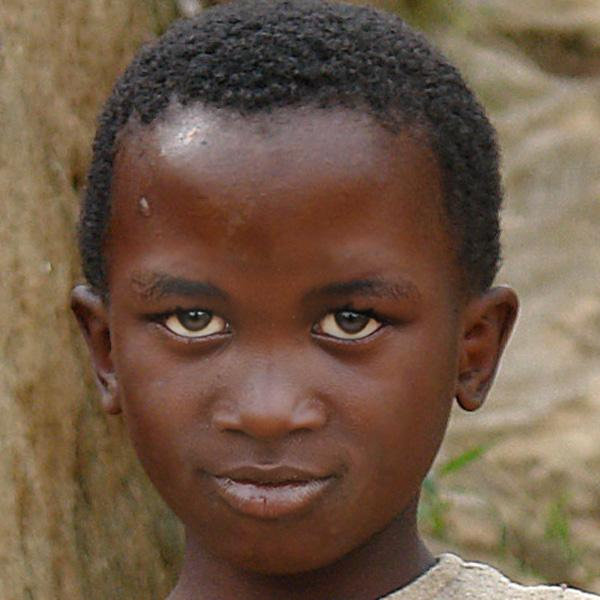Eyes: (291, 293, 405, 355), (134, 292, 246, 355)
